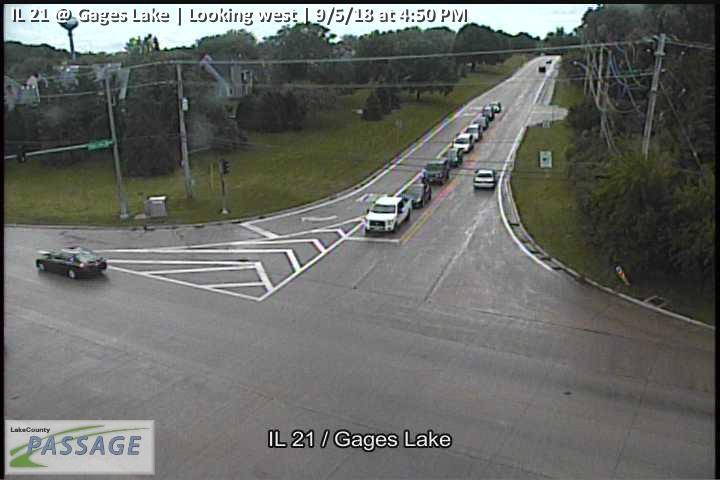SUV: (363, 196, 411, 233), (422, 159, 450, 185), (473, 169, 496, 190), (453, 133, 474, 153), (464, 123, 483, 142), (447, 147, 464, 168)
Sedan: (35, 247, 107, 280), (401, 181, 431, 209)
